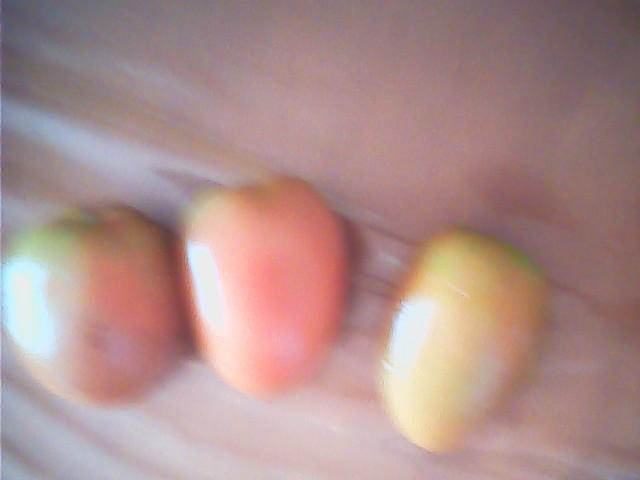verde: (374, 226, 554, 456), (178, 175, 350, 400), (3, 200, 186, 411)
